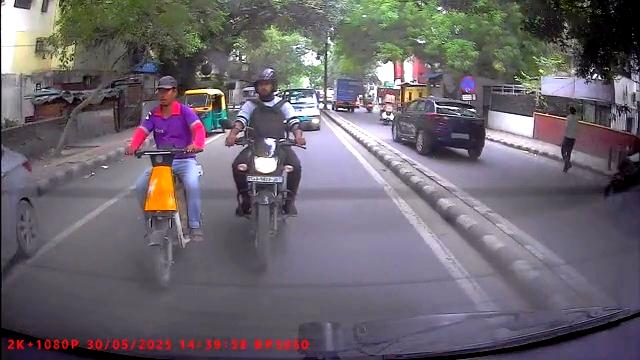motorcycle_with_helmet: (223, 63, 308, 273)
motorcycle_without_helmet: (127, 71, 209, 290)
